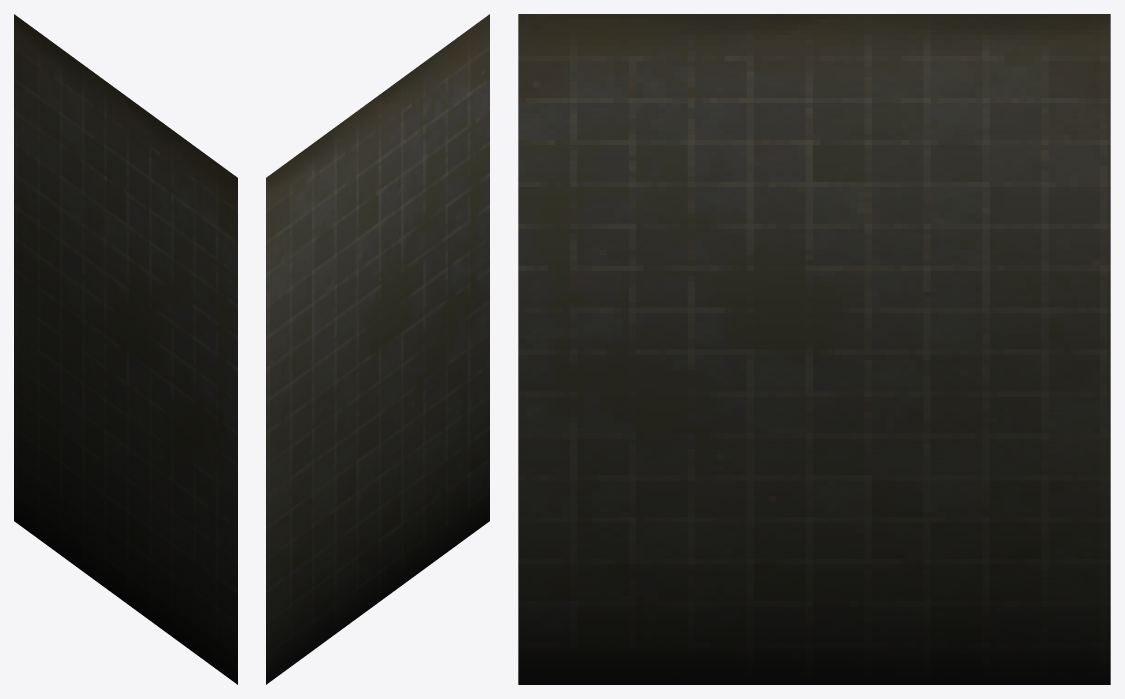
The model's file is wall_grime.fbx.
3 views of the same model, side by side, from view 1: azimuth 30°, elevation 25°; view 2: azimuth 150°, elevation 25°; view 3: azimuth 270°, elevation 25° (orthographic). The views are drawn at different scales.
Visible parts, largest first — view 1: wall_grime; view 2: wall_grime; view 3: wall_grime.
Boxes of the visible parts, left/top/right/bottom form: wall_grime: left=14, top=14, right=237, bottom=684; wall_grime: left=266, top=14, right=489, bottom=684; wall_grime: left=518, top=14, right=1110, bottom=684.
Size of the model in its own units: 0 by 2.5 by 2.
Materials: 1 (1 with a texture image).
